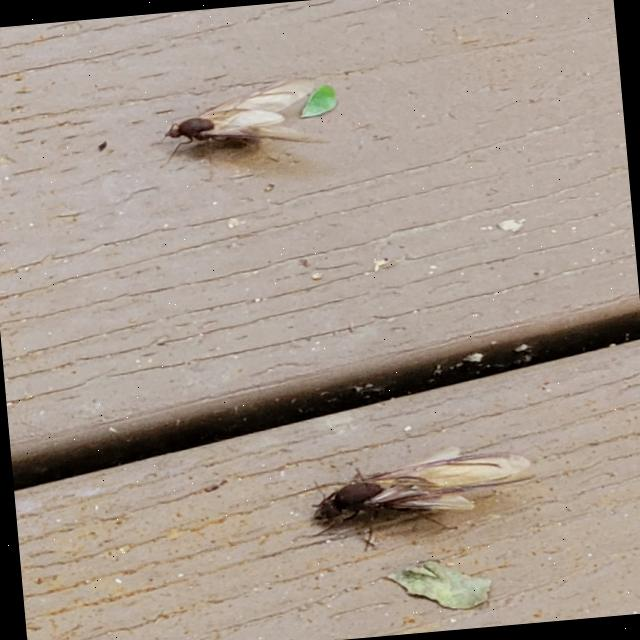Alive-Female-Alate: (284, 438, 543, 559)
Alive-Male-Alate: (144, 74, 334, 187)
